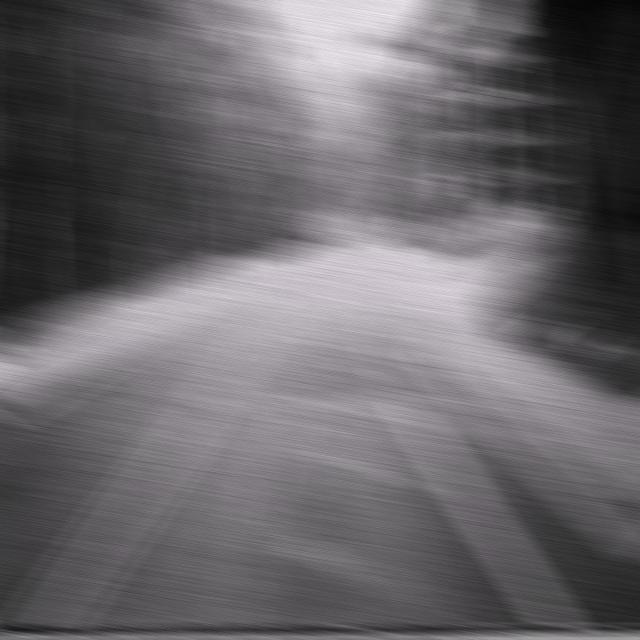pedestrianCrossing: (438, 170, 472, 205)
